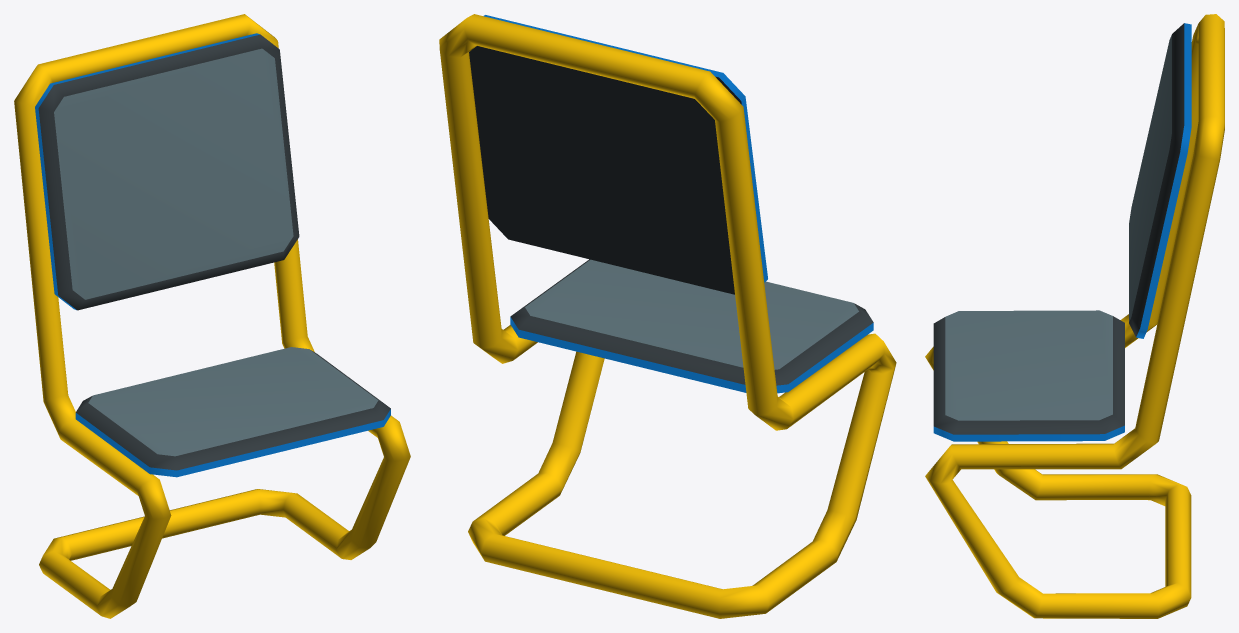
Rendered from Chair_012.glb.
3 views of the same model, side by side, from view 1: azimuth 30°, elevation 25°; view 2: azimuth 150°, elevation 25°; view 3: azimuth 270°, elevation 25° (orthographic). The views are drawn at different scales.
Parts seen in each view (by area): view 1: Chair_012; view 2: Chair_012; view 3: Chair_012.
Part boxes in pixels (x1,y1,x2,y2): Chair_012: (14, 14, 410, 618); Chair_012: (439, 14, 896, 618); Chair_012: (925, 14, 1224, 618).
Size of the model in its own units: 0.6175 by 1.09 by 0.5996.
2 materials, 2 textured.
